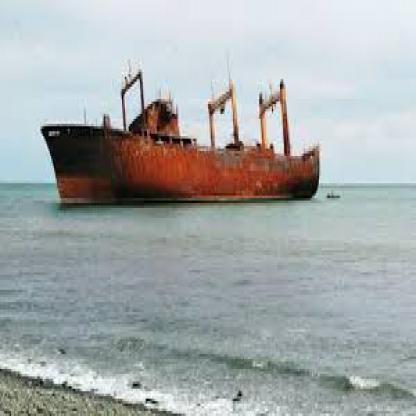fish-b: (26, 52, 335, 220)
